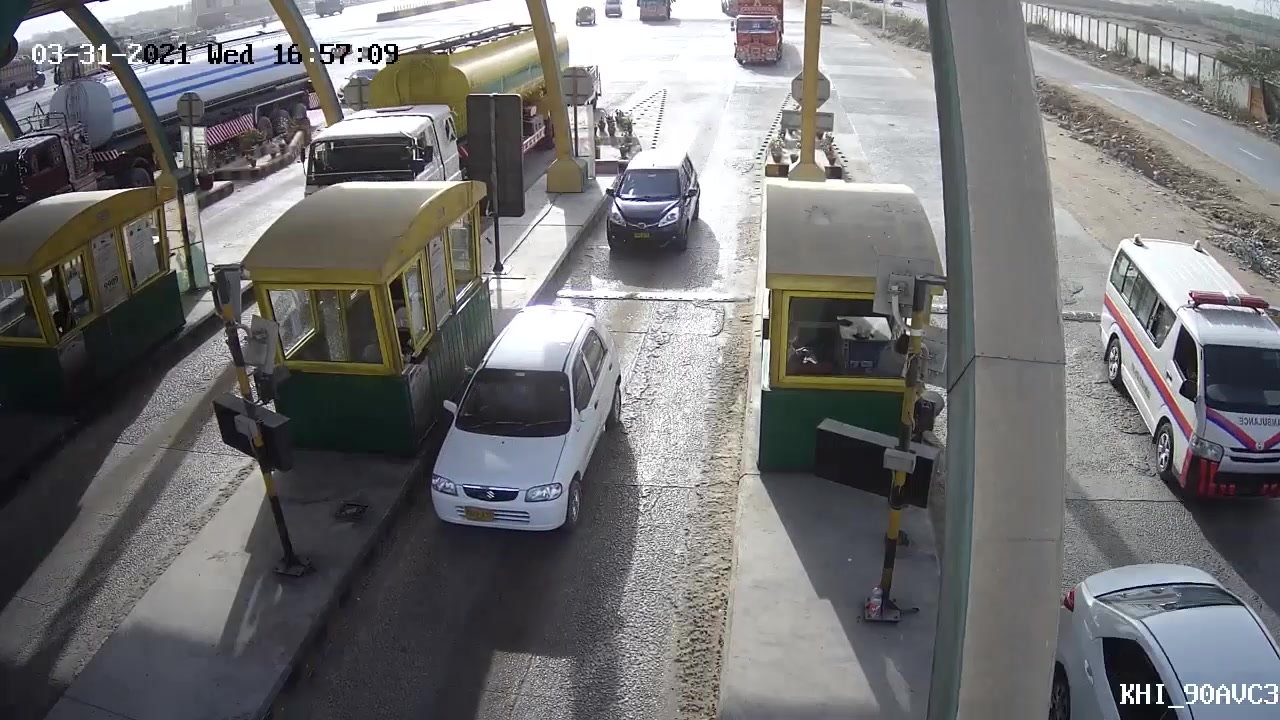F1: (427, 304, 631, 548), (593, 143, 705, 262)
